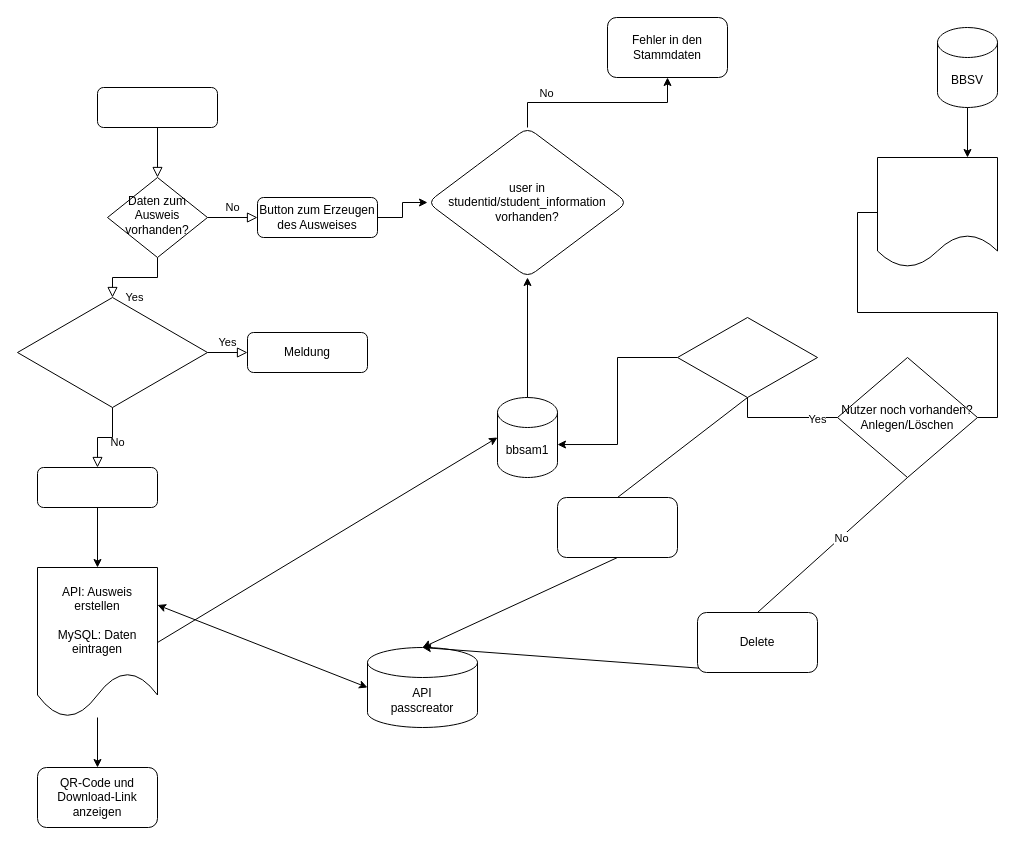
Image size: 1016x845. Some labels were removed from this diagram. Each missing label, with the box of its shape:
API Abfrage, ob schon ein Ausweis aktiv ist: (16, 296, 208, 408)
API Ändern der Daten: (556, 496, 678, 558)
Benutzer ruft studentid.php auf: (96, 86, 218, 128)
Download: (36, 466, 158, 508)
PS1: Stammdaten in student_information anlegen: (876, 156, 998, 268)
Änderungen?: (676, 316, 818, 398)
